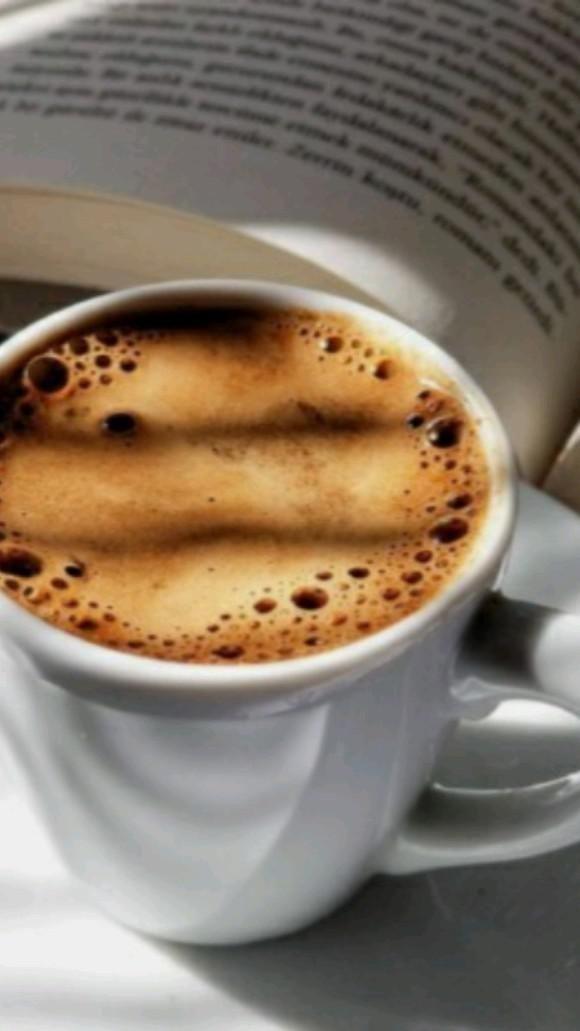cup-handle: (1, 275, 578, 957)
